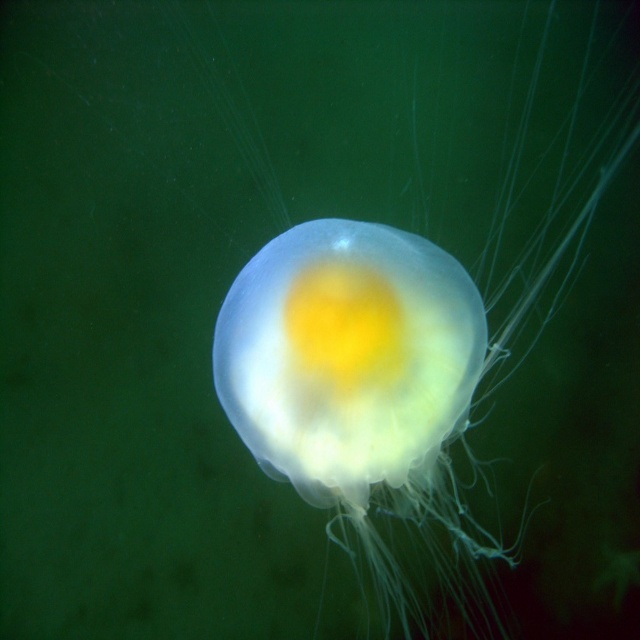Jellyfish: (208, 213, 515, 531)
